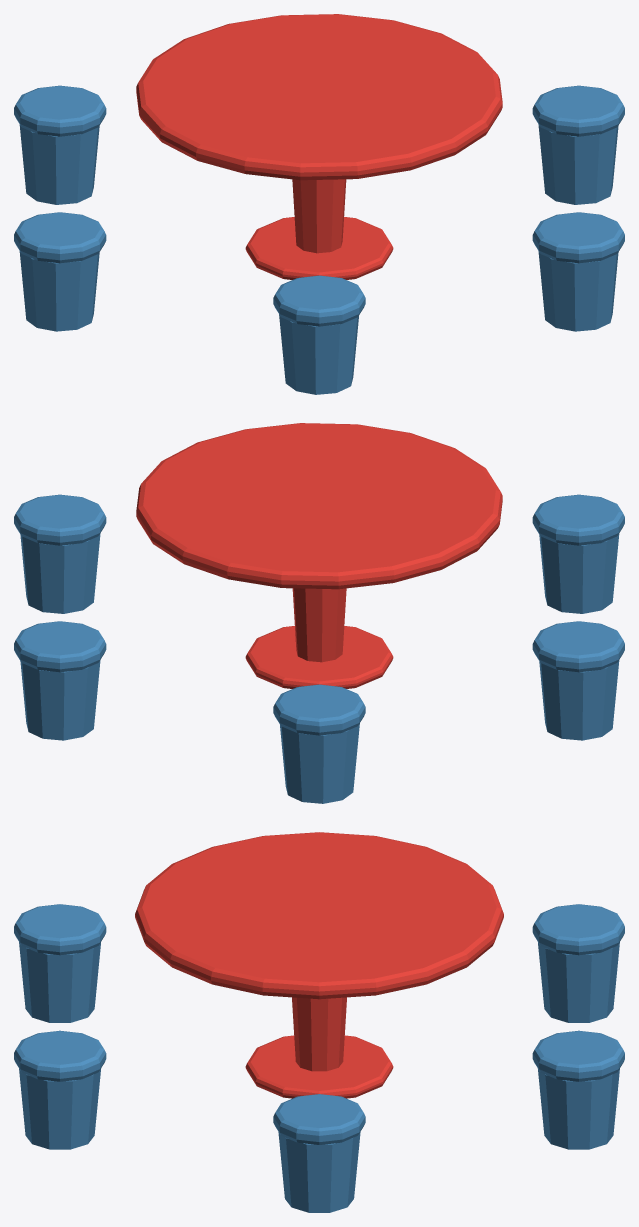
File: ban-nhom.glb
The picture shows the model from 3 angles, top to bottom: view 1: azimuth 30°, elevation 25°; view 2: azimuth 150°, elevation 25°; view 3: azimuth 270°, elevation 25°; orthographic projection.
Visible parts, largest first — view 1: ban-nhom-0, ban-nhom-2, ban-nhom-8, ban-nhom-4, ban-nhom-6, ban-nhom-10, ban-nhom-12, ban-nhom-3, ban-nhom-11, ban-nhom-7, ban-nhom-5, ban-nhom-9 (+1 smaller); view 2: ban-nhom-0, ban-nhom-2, ban-nhom-12, ban-nhom-4, ban-nhom-8, ban-nhom-10, ban-nhom-14, ban-nhom-3, ban-nhom-7, ban-nhom-11, ban-nhom-9, ban-nhom-13 (+1 smaller); view 3: ban-nhom-0, ban-nhom-2, ban-nhom-6, ban-nhom-14, ban-nhom-4, ban-nhom-8, ban-nhom-12, ban-nhom-5, ban-nhom-7, ban-nhom-11, ban-nhom-13, ban-nhom-3 (+1 smaller).
Boxes of the visible parts, x1,y1,x2,y2 form: ban-nhom-0: (136, 14, 502, 180); ban-nhom-2: (245, 217, 393, 279); ban-nhom-8: (279, 314, 358, 394); ban-nhom-4: (538, 124, 618, 204); ban-nhom-6: (538, 251, 618, 331); ban-nhom-10: (19, 251, 99, 331); ban-nhom-12: (19, 124, 99, 204); ban-nhom-3: (532, 85, 624, 136); ban-nhom-11: (14, 85, 106, 136); ban-nhom-7: (273, 275, 365, 326); ban-nhom-5: (532, 212, 624, 263); ban-nhom-9: (14, 212, 106, 263); ban-nhom-0: (136, 423, 502, 589); ban-nhom-2: (245, 626, 393, 688); ban-nhom-12: (280, 723, 359, 803); ban-nhom-4: (20, 533, 100, 613); ban-nhom-8: (539, 533, 619, 613); ban-nhom-10: (539, 660, 619, 740); ban-nhom-14: (20, 660, 100, 740); ban-nhom-3: (14, 494, 106, 545); ban-nhom-7: (532, 494, 624, 545); ban-nhom-11: (273, 684, 365, 735); ban-nhom-9: (532, 621, 624, 672); ban-nhom-13: (14, 621, 106, 672); ban-nhom-0: (135, 832, 503, 999); ban-nhom-2: (245, 1035, 393, 1098); ban-nhom-6: (19, 1069, 100, 1149); ban-nhom-14: (538, 1069, 619, 1149); ban-nhom-4: (278, 1132, 360, 1212); ban-nhom-8: (19, 942, 100, 1022); ban-nhom-12: (538, 942, 619, 1022); ban-nhom-5: (14, 1030, 106, 1081); ban-nhom-7: (14, 904, 106, 955); ban-nhom-11: (532, 904, 624, 955); ban-nhom-13: (532, 1030, 624, 1081); ban-nhom-3: (273, 1094, 365, 1144).
Bounding box in the file's own units: 3 × 0.79 × 2.65.
